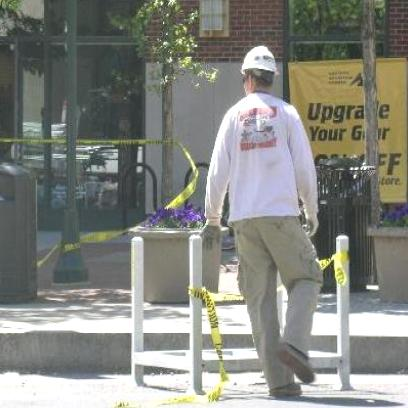ped: (205, 47, 323, 397)
